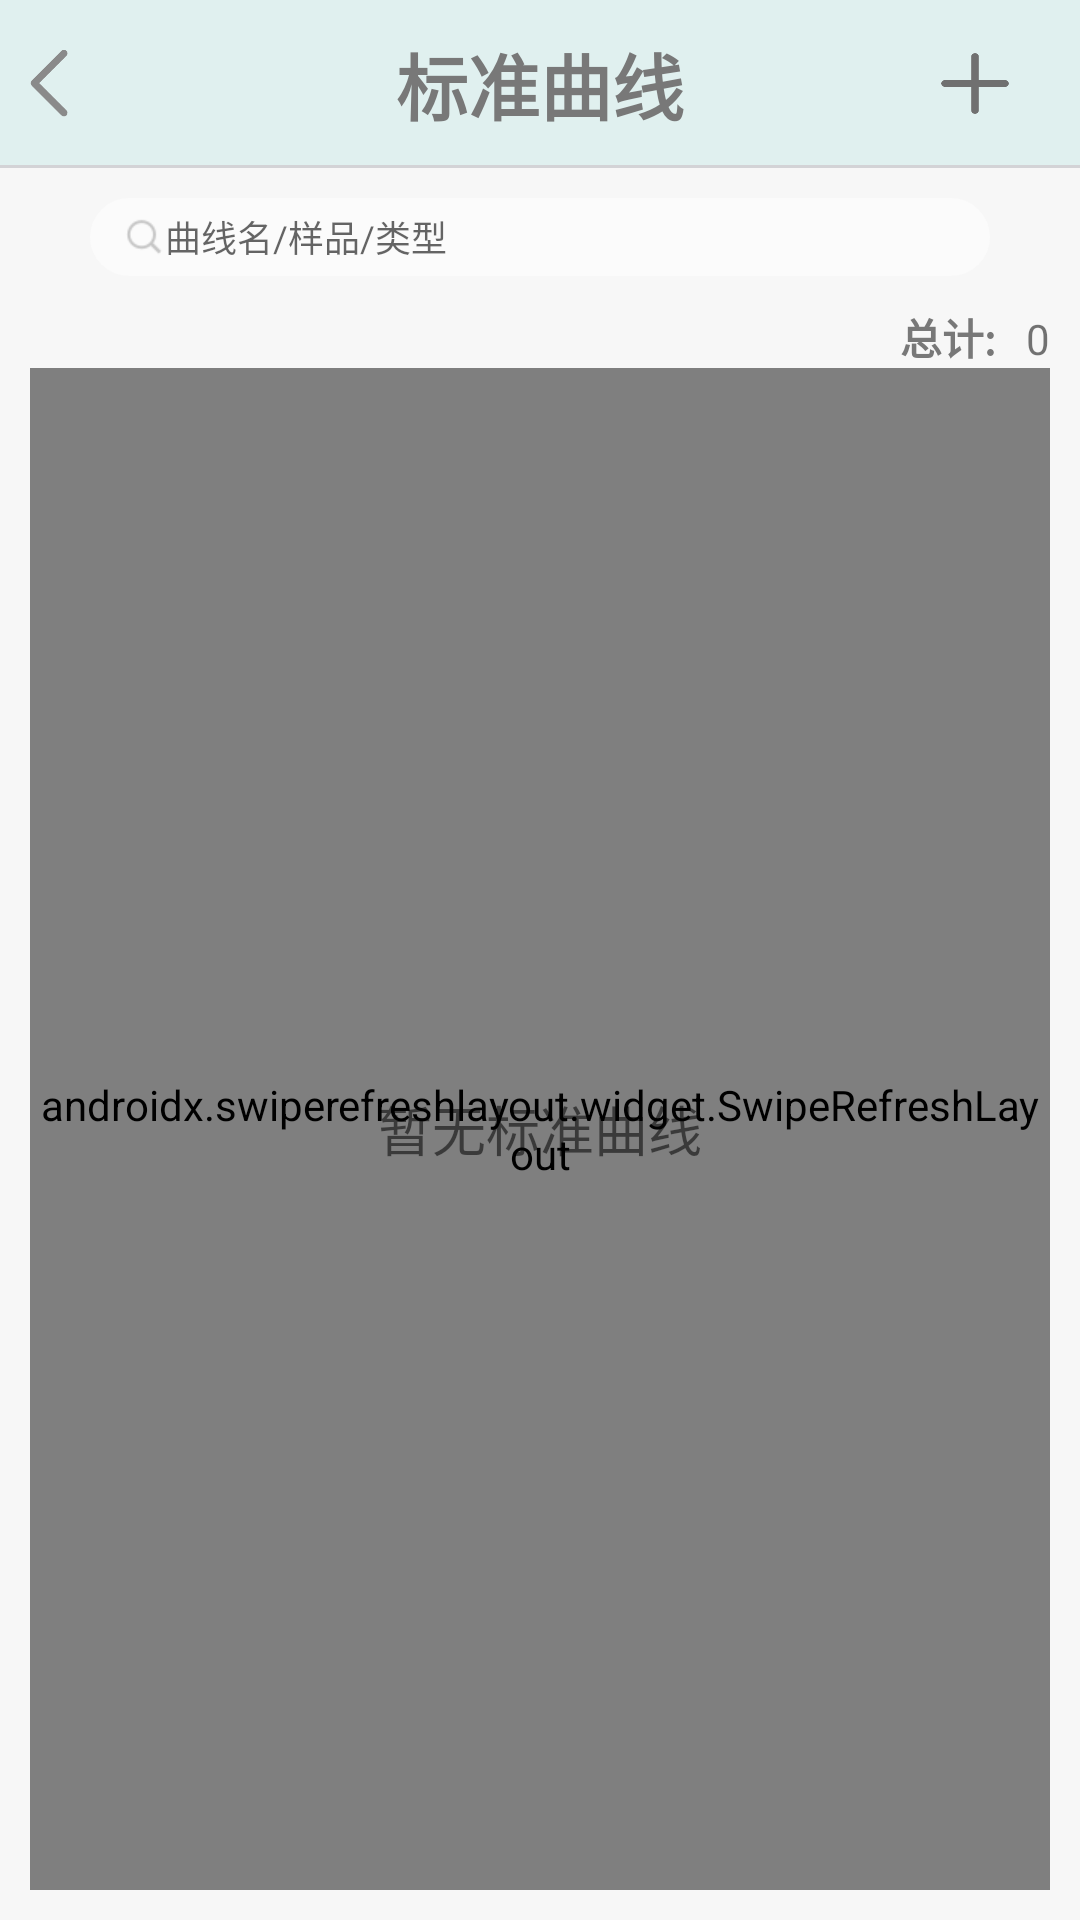

Screen size 1080x1920. Icon name, then its center in pixels as (x,y):
add: (975,83)
back: (49,83)
search: (144,236)
